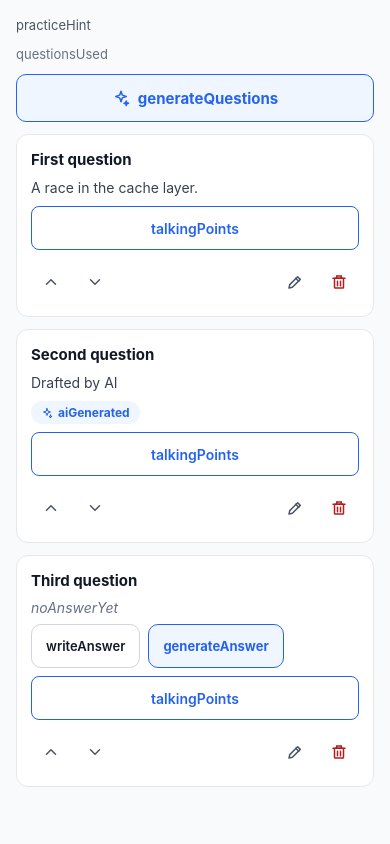
Test: MockInterviewQuestionsScreen › generating an answer › discarding the draft saves nothing and closes it
Click the button with test id "generate-answer-q3".
click(216, 646)  # box [148,624,284,668]
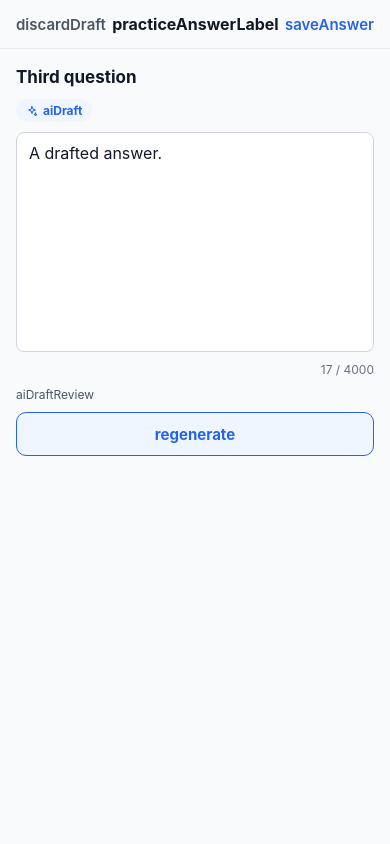
Click the element with test id "answer-draft-discard-button".
click(61, 24)  # box [16,14,106,34]
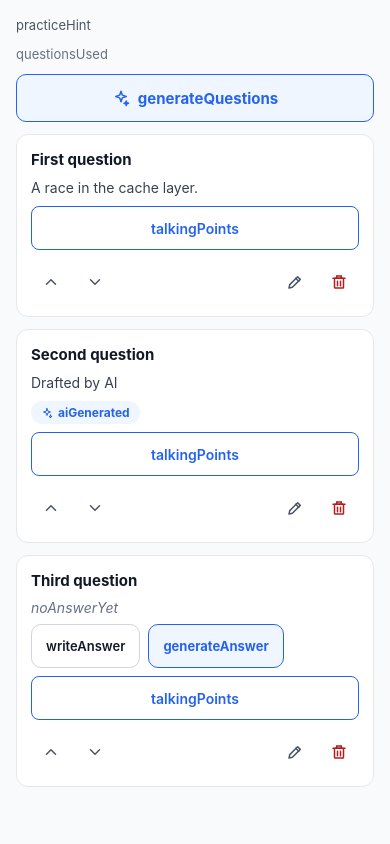
expect the text box with test id "answer-draft-input" is gone: met
